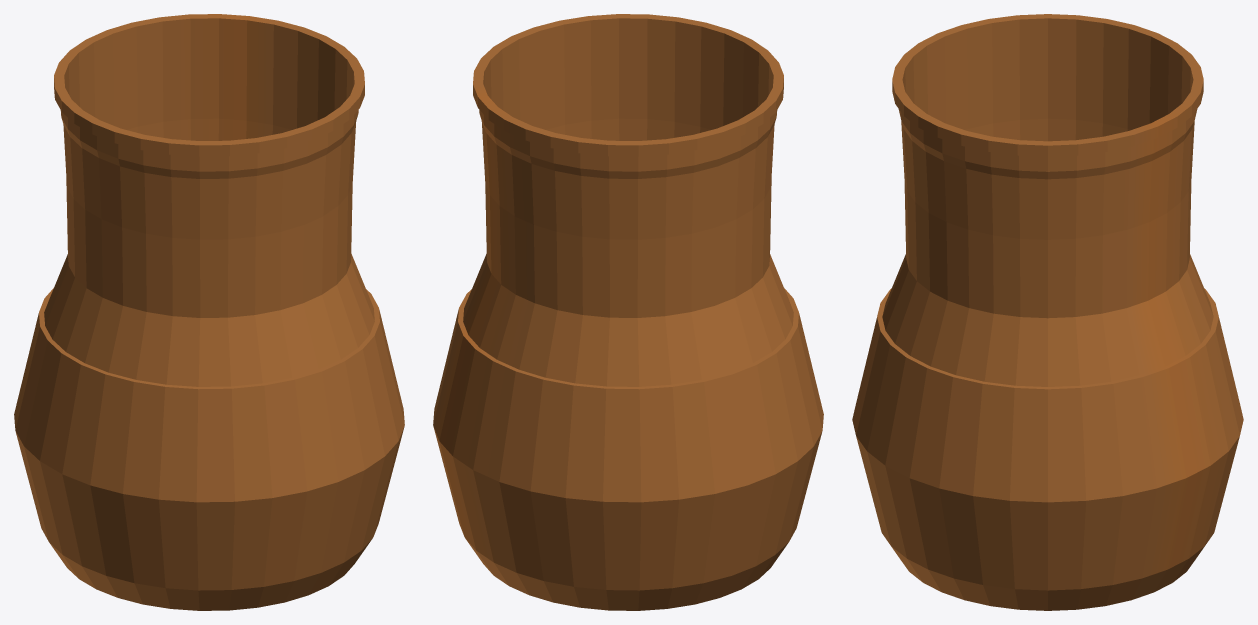
The model's file is Pot 1.fbx.
3 views of the same model, side by side, from view 1: azimuth 30°, elevation 25°; view 2: azimuth 150°, elevation 25°; view 3: azimuth 270°, elevation 25° (orthographic).
Visible parts, largest first — view 1: Cylinder.003; view 2: Cylinder.003; view 3: Cylinder.003.
Boxes of the visible parts, x1=… form: Cylinder.003: x1=14, y1=14, x2=404, y2=610; Cylinder.003: x1=433, y1=14, x2=823, y2=610; Cylinder.003: x1=852, y1=14, x2=1243, y2=610.
Size of the model in its own units: 83.9 by 111 by 83.9.
1 material, 1 textured.
